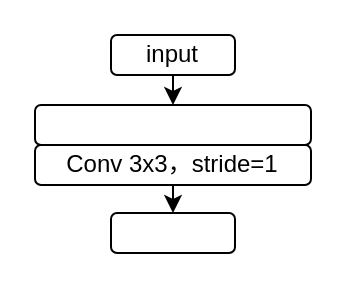
Some shapes in this 346 by 288 pixel diagram are drawn without their labels. The shapes that lost their labels are listed below. From the top down, each one's centre as x and y in pixels, then its label:
At point (172, 124): "Bilinear Interpolation".
At point (172, 232): "output".
